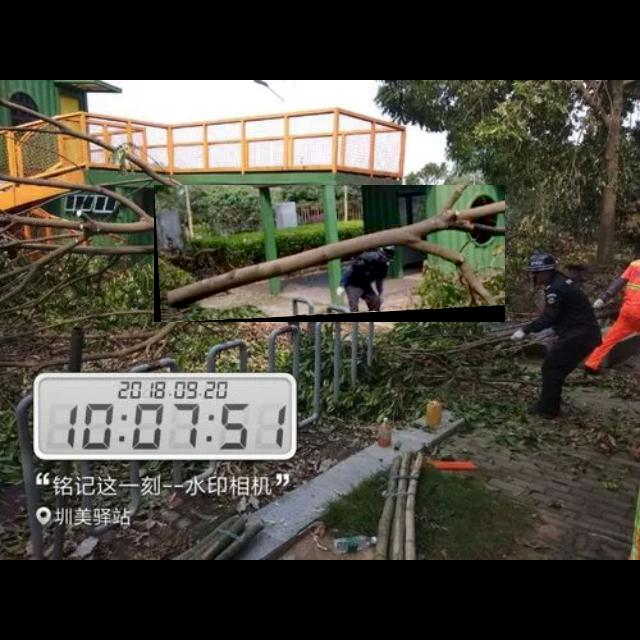Fallen Tree: (154, 185, 506, 323)
